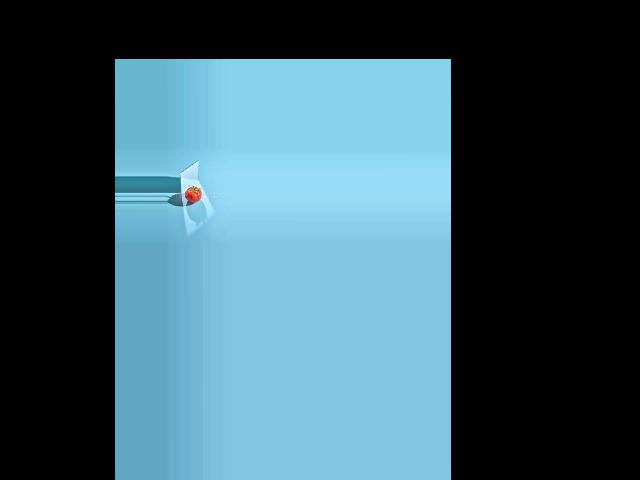tomato: (184, 186, 201, 202)
